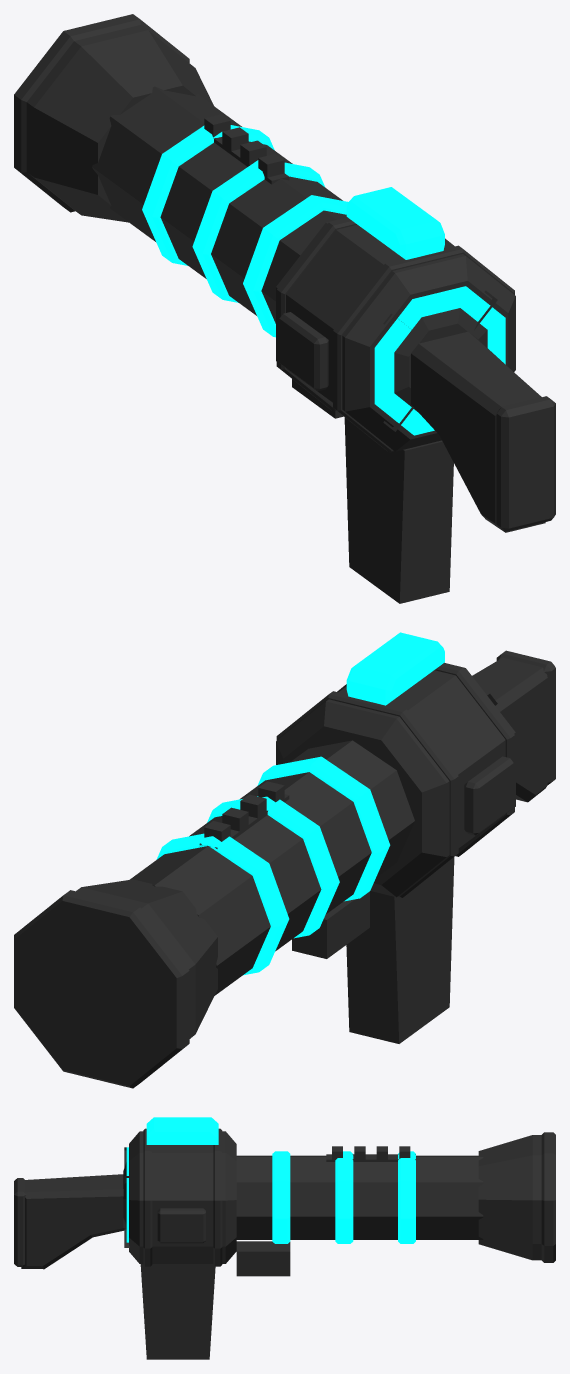
File: emp_launcher.glb
3 renders of one model, top to bottom at view 1: azimuth 30°, elevation 25°; view 2: azimuth 150°, elevation 25°; view 3: azimuth 270°, elevation 25°, orthographic. The views are drawn at different scales.
Parts seen in each view (by area): view 1: frame, grip, trim, heat_vents, heat_cell; view 2: frame, trim, grip, heat_vents, heat_cell; view 3: frame, grip, trim, heat_vents, heat_cell.
Part boxes in pixels (x1,y1,x2,y2): frame: [26, 25, 515, 451]; grip: [292, 331, 555, 603]; trim: [14, 14, 514, 452]; heat_vents: [142, 125, 505, 435]; heat_cell: [346, 187, 444, 259]; frame: [76, 662, 515, 1038]; trim: [14, 663, 514, 1088]; grip: [292, 650, 555, 1043]; heat_vents: [156, 756, 390, 975]; heat_cell: [346, 632, 444, 705]; frame: [129, 1131, 541, 1263]; grip: [14, 1174, 290, 1359]; trim: [123, 1128, 555, 1266]; heat_vents: [126, 1147, 415, 1243]; heat_cell: [146, 1117, 218, 1144].
Size of the model in its own units: 0.16 by 0.282 by 0.604.
